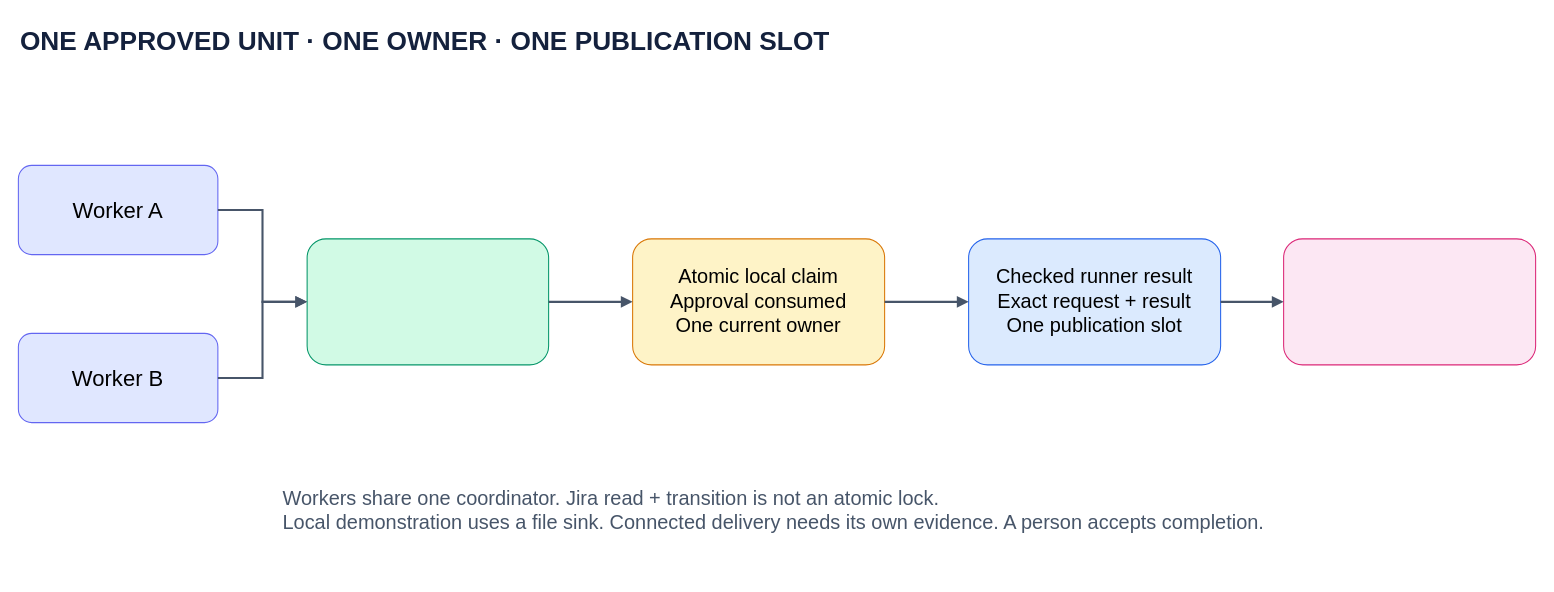
The diagram is 1554 pixels wide and 592 high, and some of its shapes have lost their labels. Here are the shapes that lost their labels. From the top down, the centre of each, then its label:
At [427,301]: "Fixed approved queue Fresh Jira read Dependencies checked".
At [1409,301]: "Trusted publisher Write once, then verify Uncertain write → stop".
